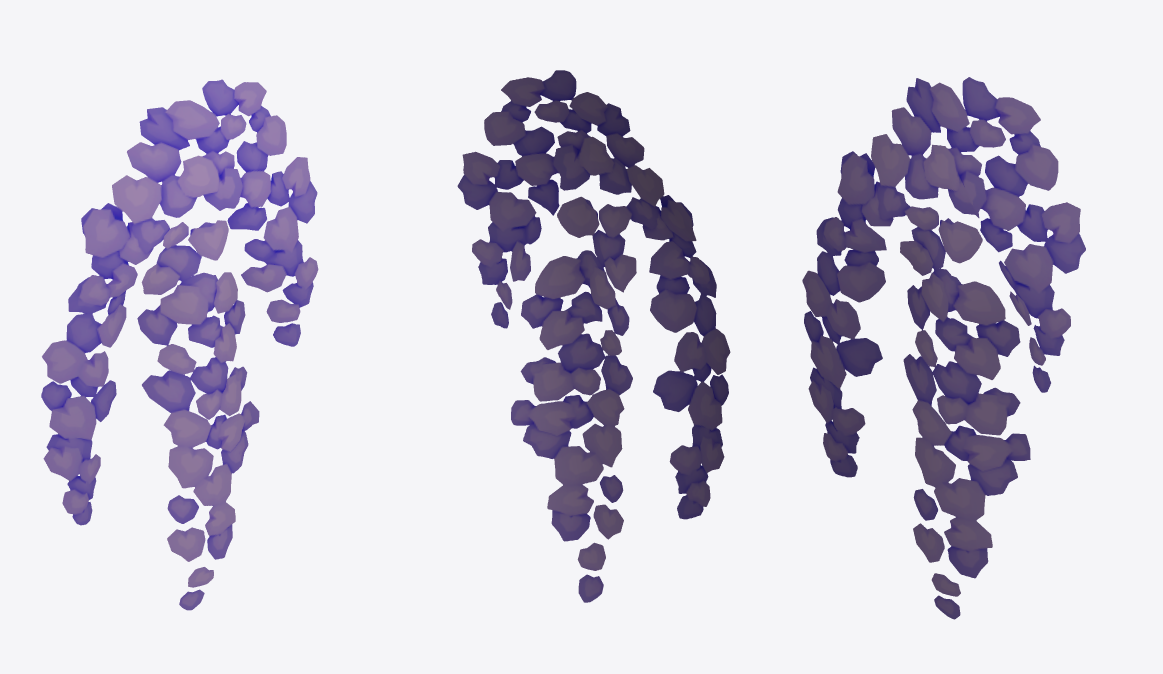
Rendered from SM_Env_Flowers_Clump_01.fbx.
3 views of the same model, side by side, from view 1: azimuth 30°, elevation 25°; view 2: azimuth 150°, elevation 25°; view 3: azimuth 330°, elevation 25° (orthographic). The views are drawn at different scales.
Visible parts, largest first — view 1: SM_Env_Flowers_Clump_01; view 2: SM_Env_Flowers_Clump_01; view 3: SM_Env_Flowers_Clump_01.
Boxes of the visible parts, <box> form: SM_Env_Flowers_Clump_01: <box>41,79,318,610</box>; SM_Env_Flowers_Clump_01: <box>457,70,730,602</box>; SM_Env_Flowers_Clump_01: <box>802,77,1085,619</box>.
Size of the model in its own units: 81.01 by 133 by 6.76.
